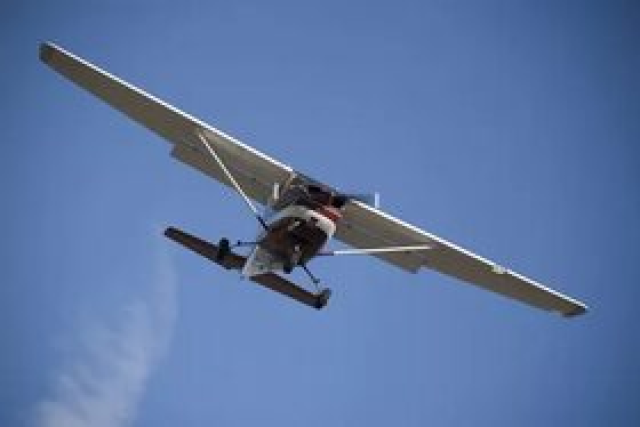military drone: (38, 40, 589, 311)
